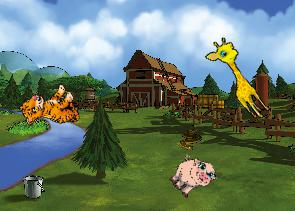giraffe: (201, 33, 280, 123)
pig: (164, 148, 220, 204)
tiger: (16, 77, 85, 142)
